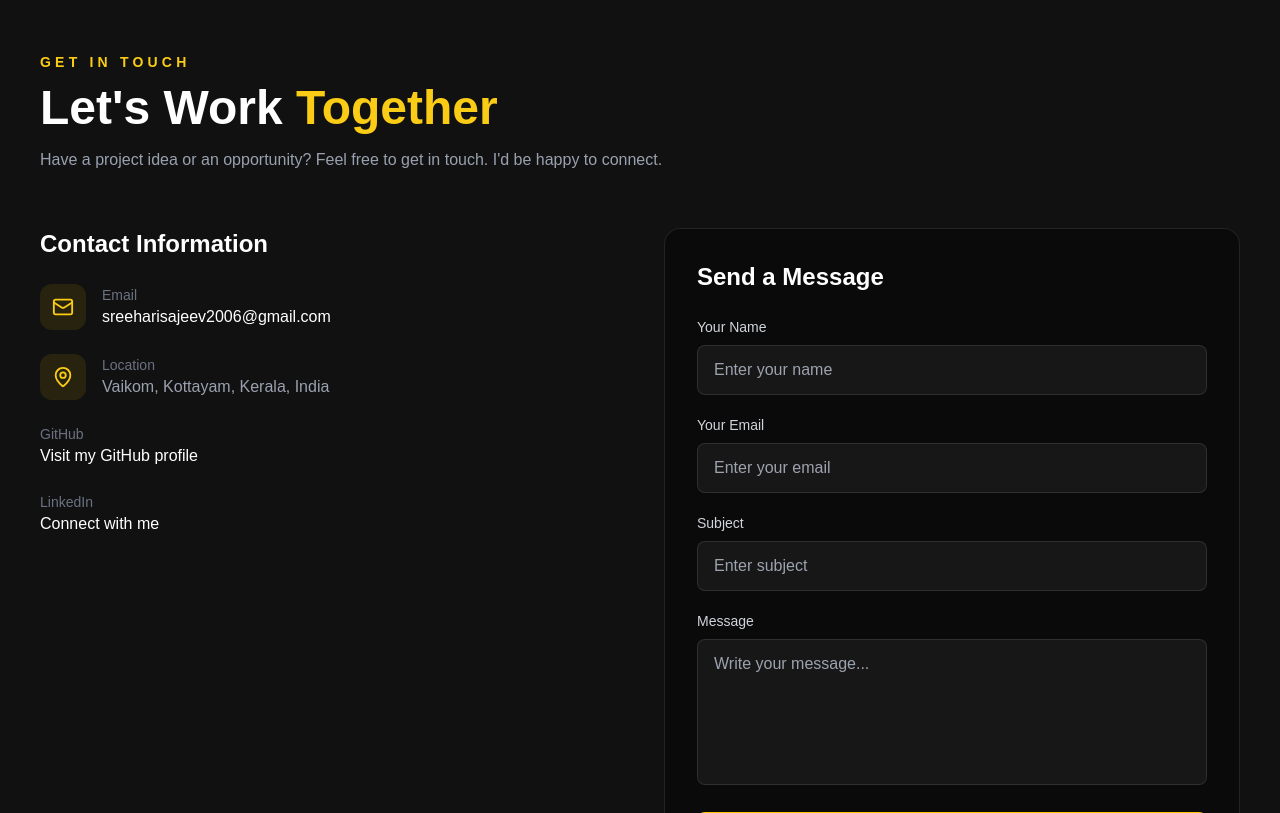
Test: Contact Component › hides success message when user starts editing again
The width and height of the screenshot is (1280, 813).
Type "Sreehari" into the field labelled "Your Name".
click(952, 370); type("Sreehari")  # box [697,345,1207,395]
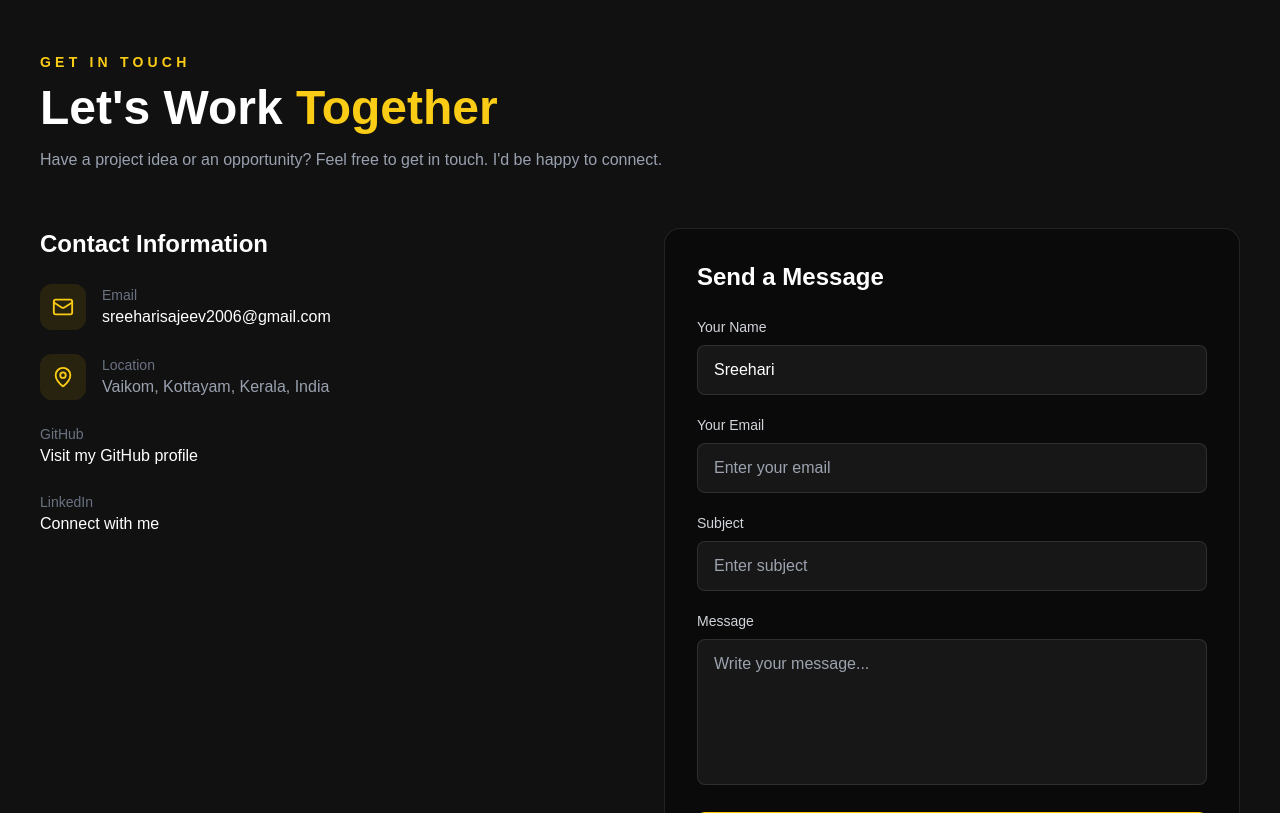
Type "test@example.com" into the field labelled "Your Email".
click(952, 468); type("test@example.com")  # box [697,443,1207,493]
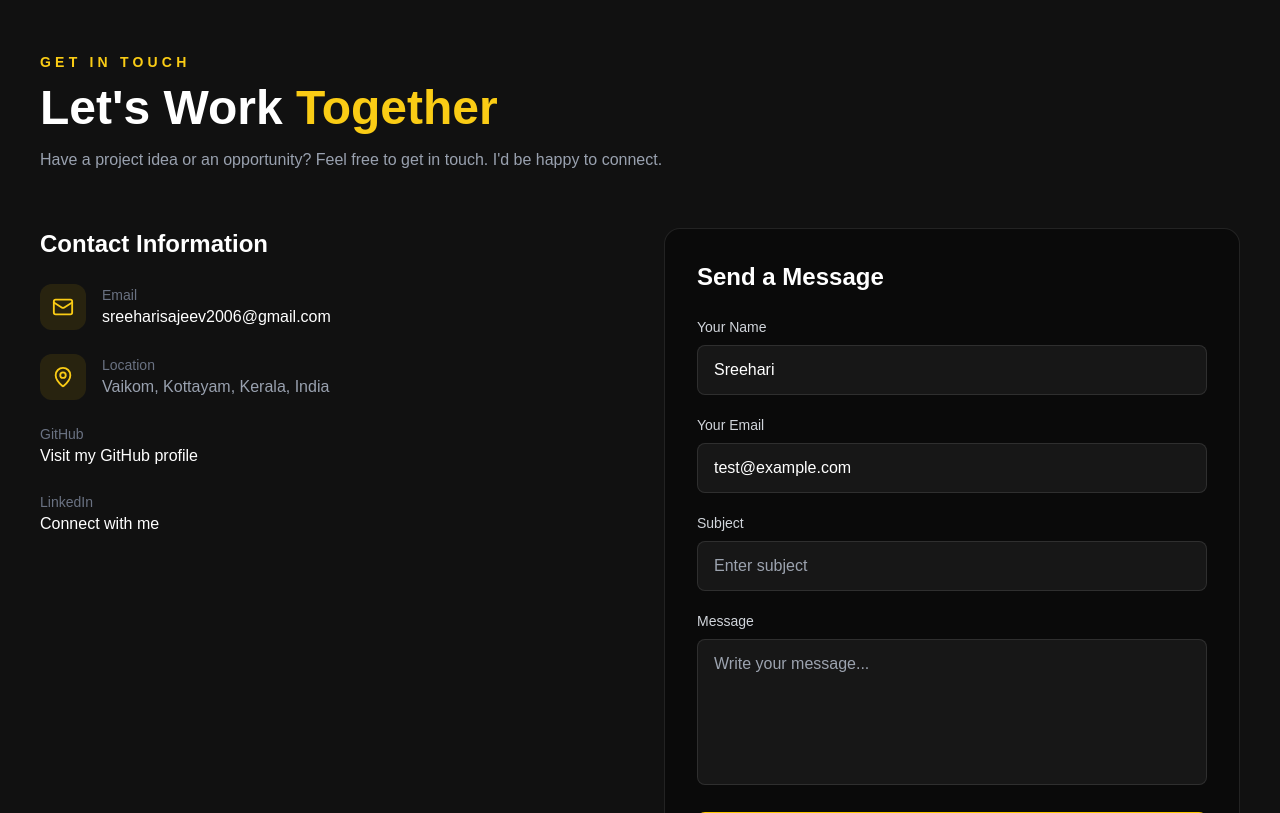
Type "Job Opportunity" into the field labelled "Subject".
click(952, 566); type("Job Opportunity")  # box [697,541,1207,591]
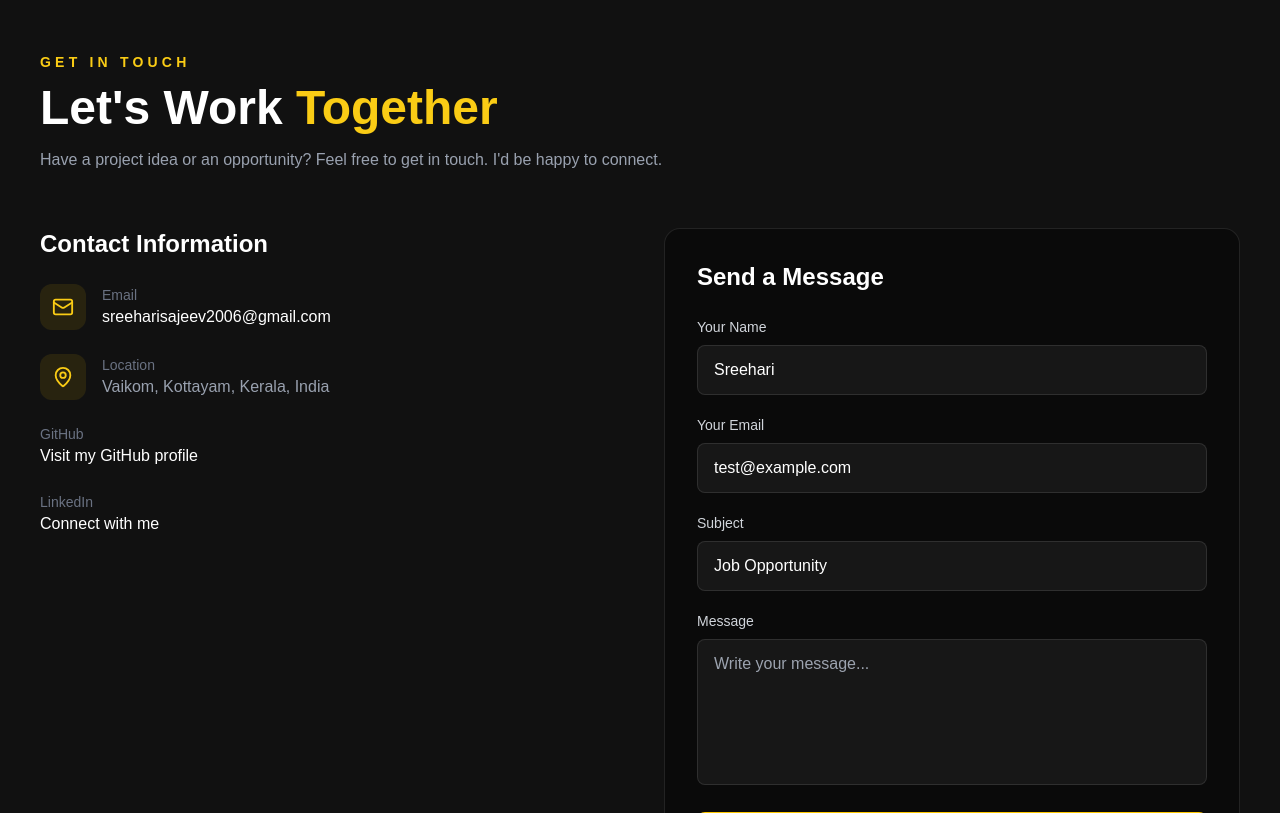
Type "Hello, I would like to connect." into the text box labelled "Message".
click(952, 712); type("Hello, I would like to connect.")  # box [697,639,1207,785]
(page scrolled)
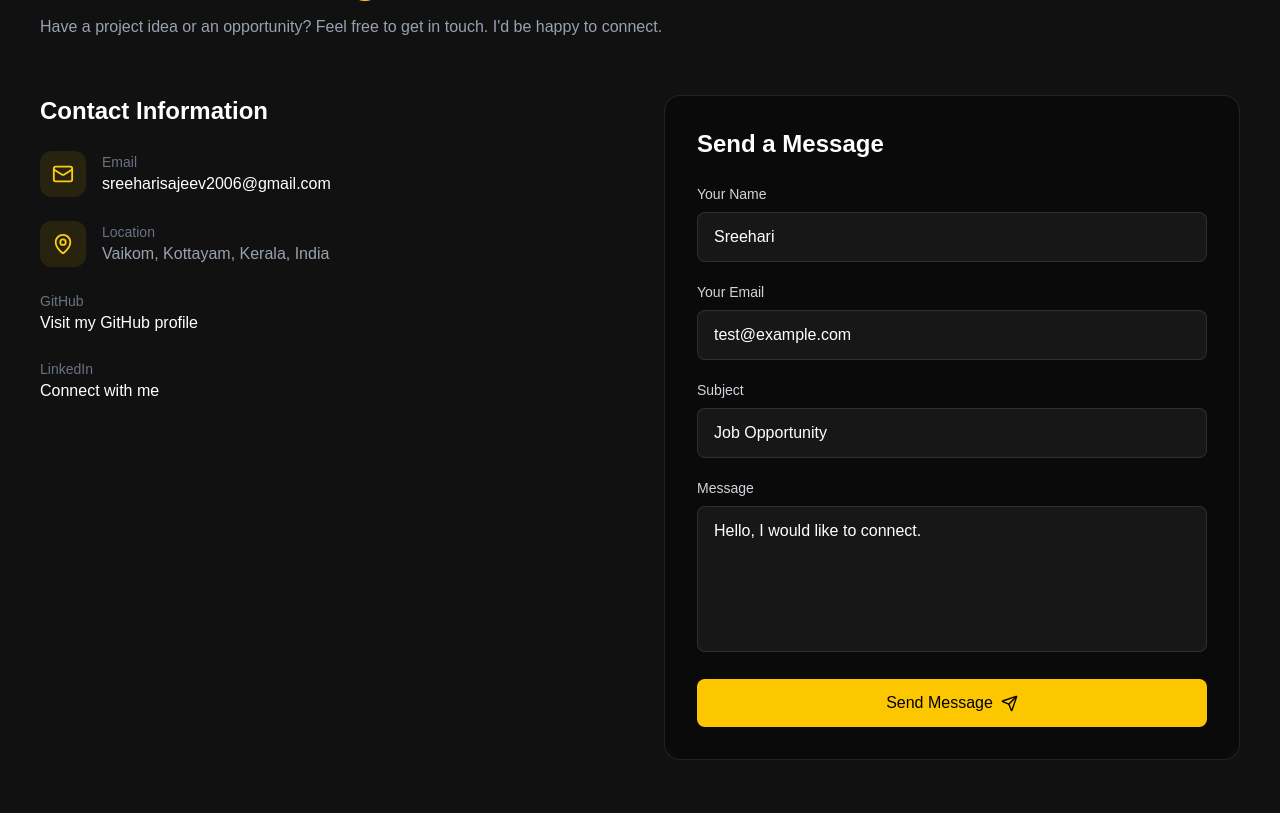
Click the button "Send Message".
click(952, 703)  # box [697,679,1207,727]
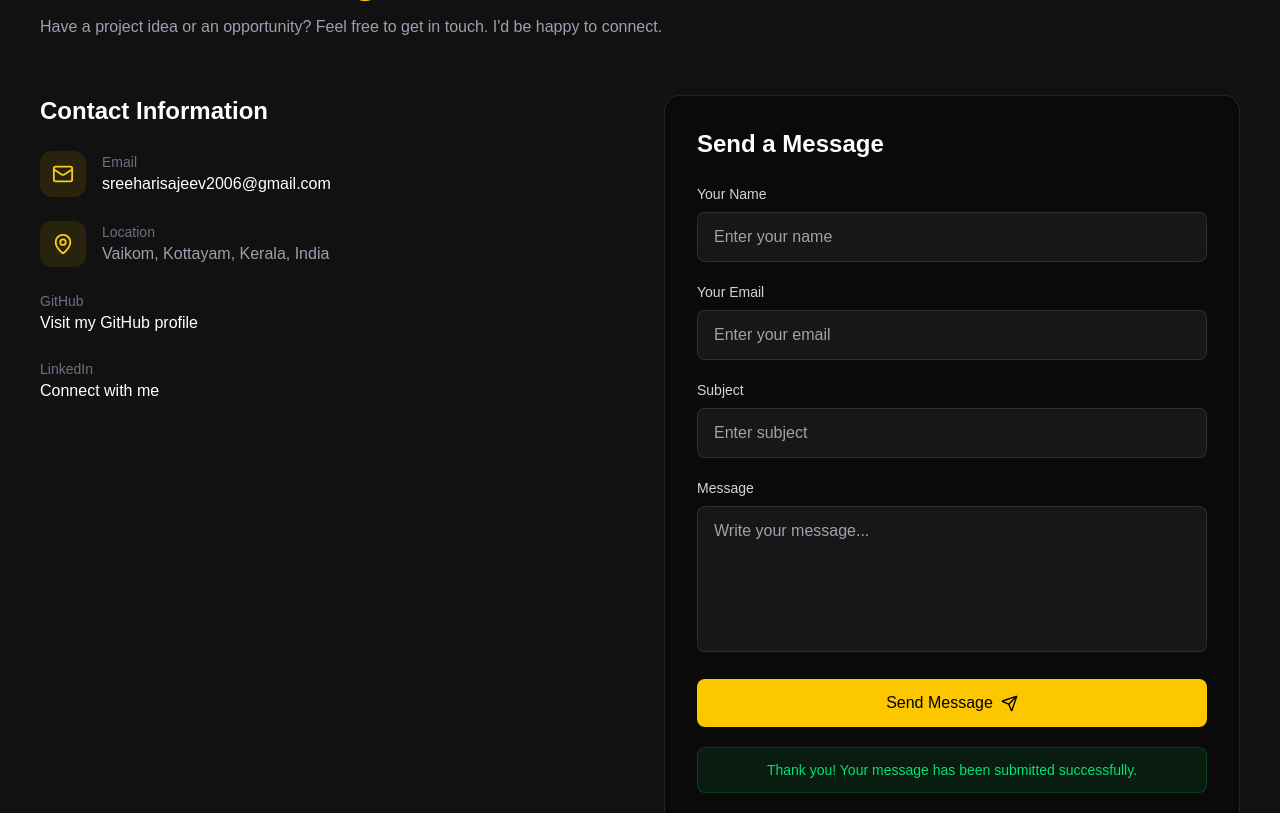
Now the message "Thank you! Your message has been submitted successfully." is shown, box [697,747,1207,793]
Type "Another Name" into the field labelled "Your Name".
click(952, 237); type("Another Name")  # box [697,212,1207,262]
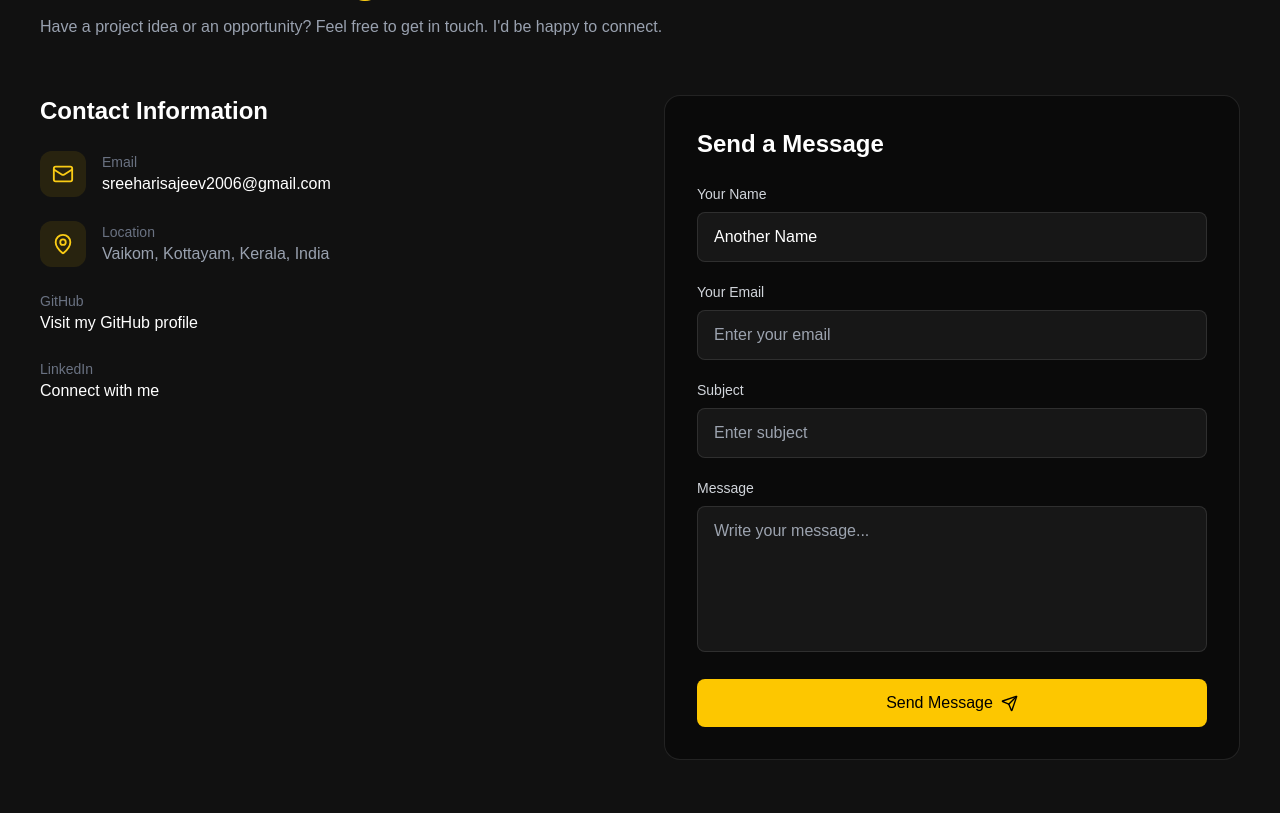
Now the message "Thank you! Your message has been submitted successfully." is gone
